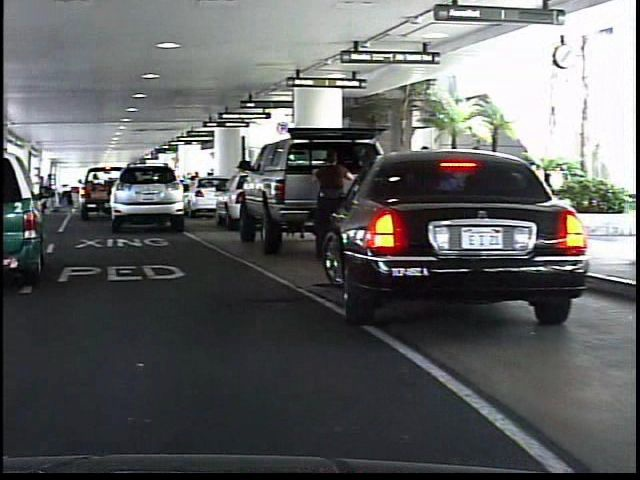person: (304, 149, 356, 257)
